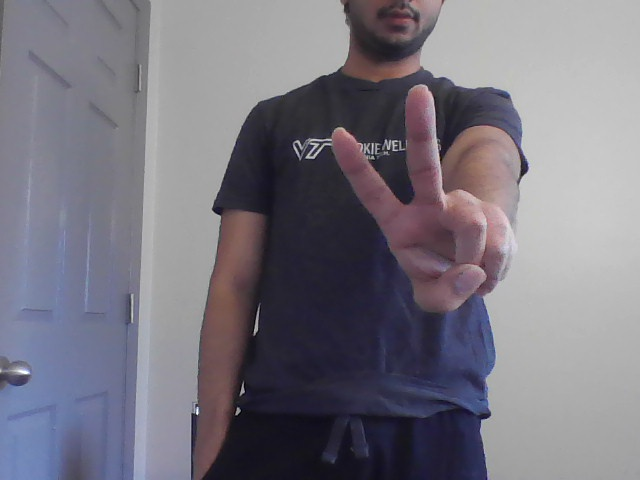two: (327, 81, 518, 319)
